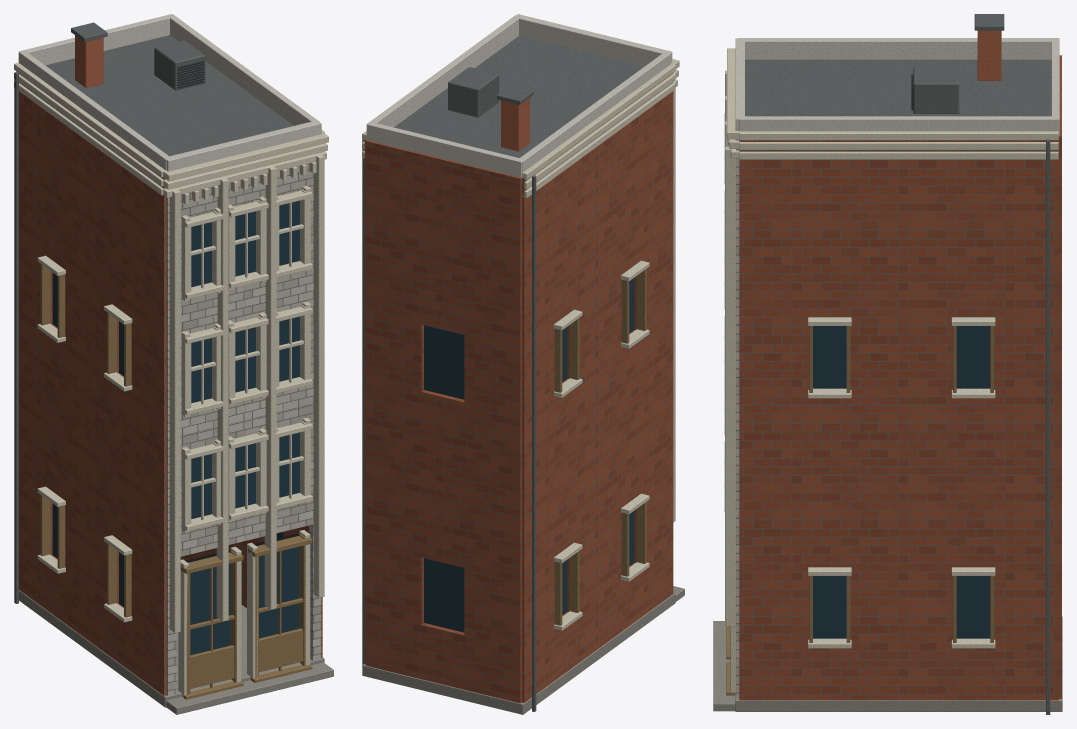
Rendered from OFFC20_lod1.glb.
3 views of the same model, side by side, from view 1: azimuth 30°, elevation 25°; view 2: azimuth 150°, elevation 25°; view 3: azimuth 270°, elevation 25° (orthographic). The views are drawn at different scales.
Visible parts, largest first — view 1: OFFC20_LOD1; view 2: OFFC20_LOD1; view 3: OFFC20_LOD1.
Boxes of the visible parts, x1,y1,x2,y2 form: OFFC20_LOD1: [14, 14, 333, 714]; OFFC20_LOD1: [362, 14, 684, 714]; OFFC20_LOD1: [713, 14, 1062, 714].
Bounding box in the file's own units: 4.11 × 13.05 × 6.57.
11 materials, 9 textured.
